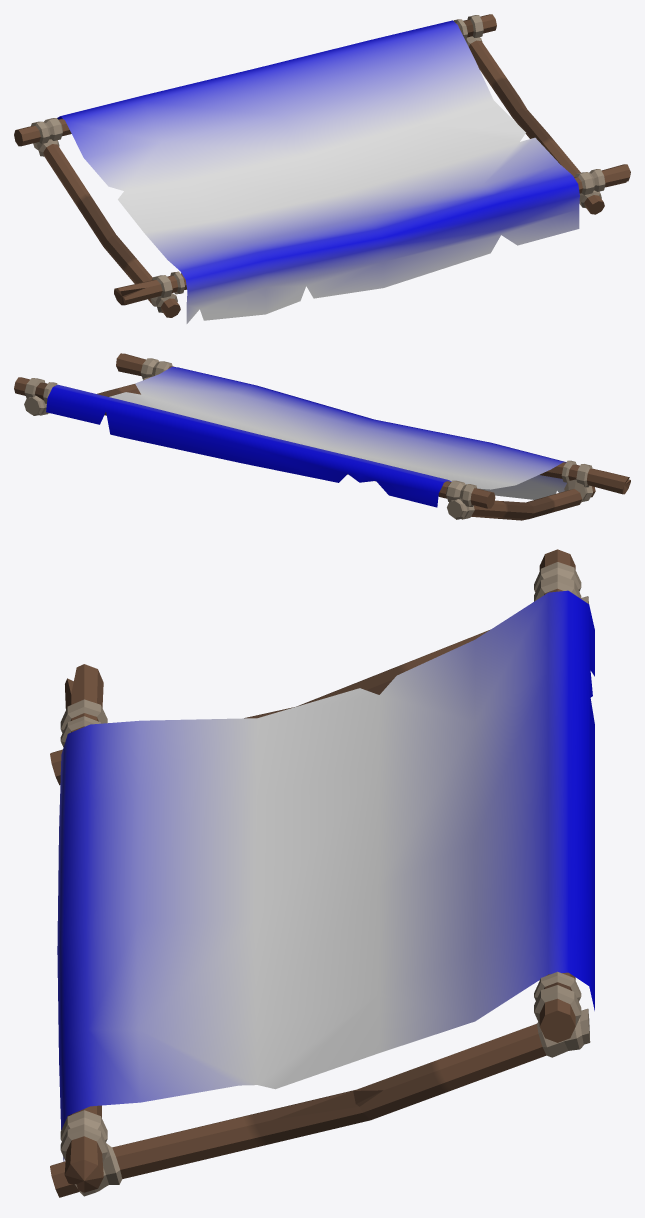
Rendered from SM_Bld_Awning_03.fbx.
3 views of the same model, one above another, from view 1: azimuth 30°, elevation 25°; view 2: azimuth 150°, elevation 25°; view 3: azimuth 270°, elevation 25° (orthographic). The views are drawn at different scales.
Parts seen in each view (by area): view 1: SM_Bld_Awning_03; view 2: SM_Bld_Awning_03; view 3: SM_Bld_Awning_03.
Part boxes in pixels (x1,y1,x2,y2): SM_Bld_Awning_03: (14, 14, 630, 323); SM_Bld_Awning_03: (14, 353, 630, 520); SM_Bld_Awning_03: (50, 549, 594, 1197).
Bounding box in the file's own units: 586 × 140 × 270.
